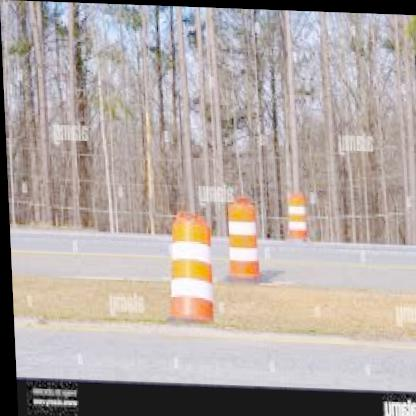obstacle: (164, 203, 214, 318), (224, 196, 259, 281), (282, 185, 308, 237)
